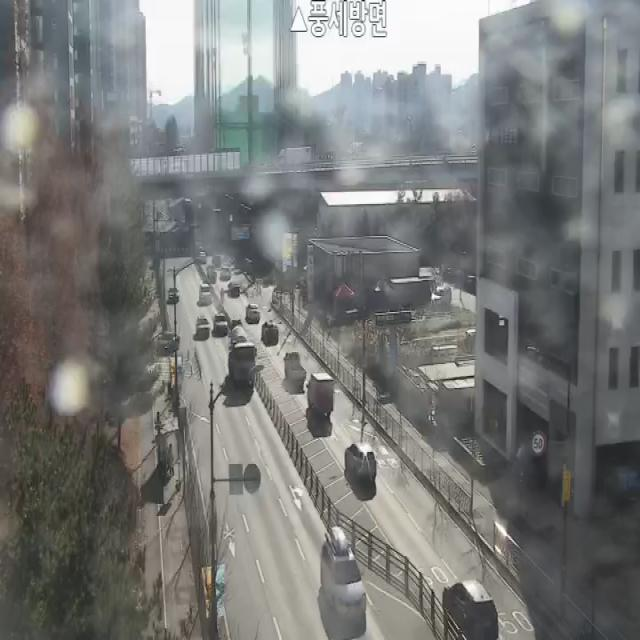Car: (320, 526, 366, 622), (443, 580, 499, 640), (306, 372, 333, 418), (345, 443, 376, 481), (284, 351, 306, 391), (430, 284, 452, 304), (262, 320, 278, 346), (195, 315, 210, 337), (213, 314, 227, 336), (199, 283, 212, 306), (246, 303, 260, 324), (227, 282, 240, 298), (168, 287, 180, 304), (220, 266, 231, 281), (207, 265, 216, 283)
Truck: (228, 319, 257, 386)
